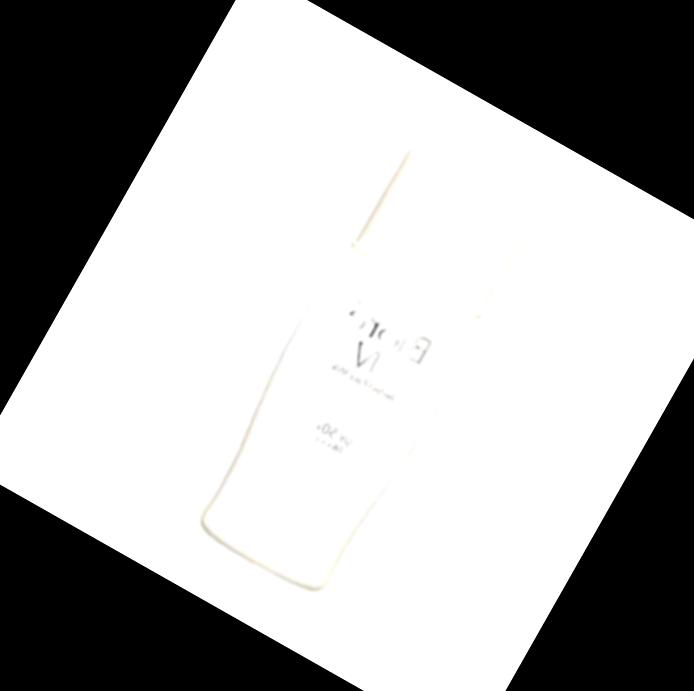cosmetic: (182, 135, 542, 603)
